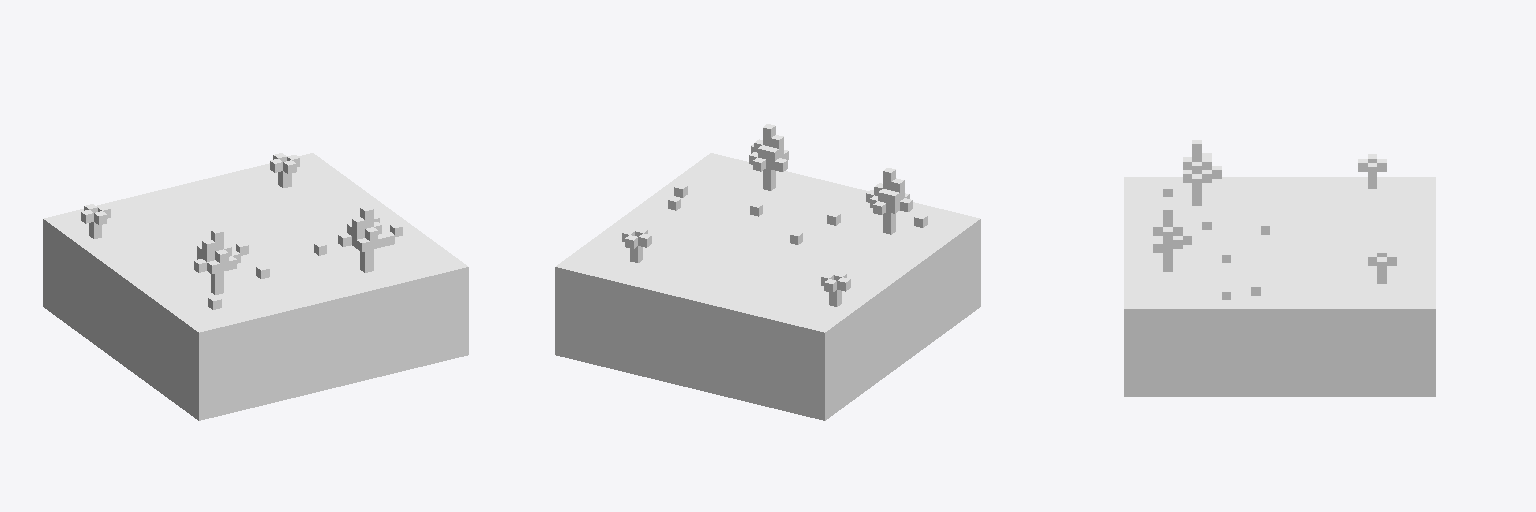
Rendered from Overworld_Beach_09.obj.
3 renders of one model, left to right at view 1: azimuth 30°, elevation 25°; view 2: azimuth 150°, elevation 25°; view 3: azimuth 270°, elevation 25°, orthographic.
Parts seen in each view (by area): view 1: object 1; view 2: object 1; view 3: object 1.
Boxes of the visible parts, <box> form: object 1: <box>43,153,468,420</box>; object 1: <box>555,124,980,420</box>; object 1: <box>1124,140,1435,396</box>.
Size of the model in its own units: 3.2 by 1.7 by 3.2.